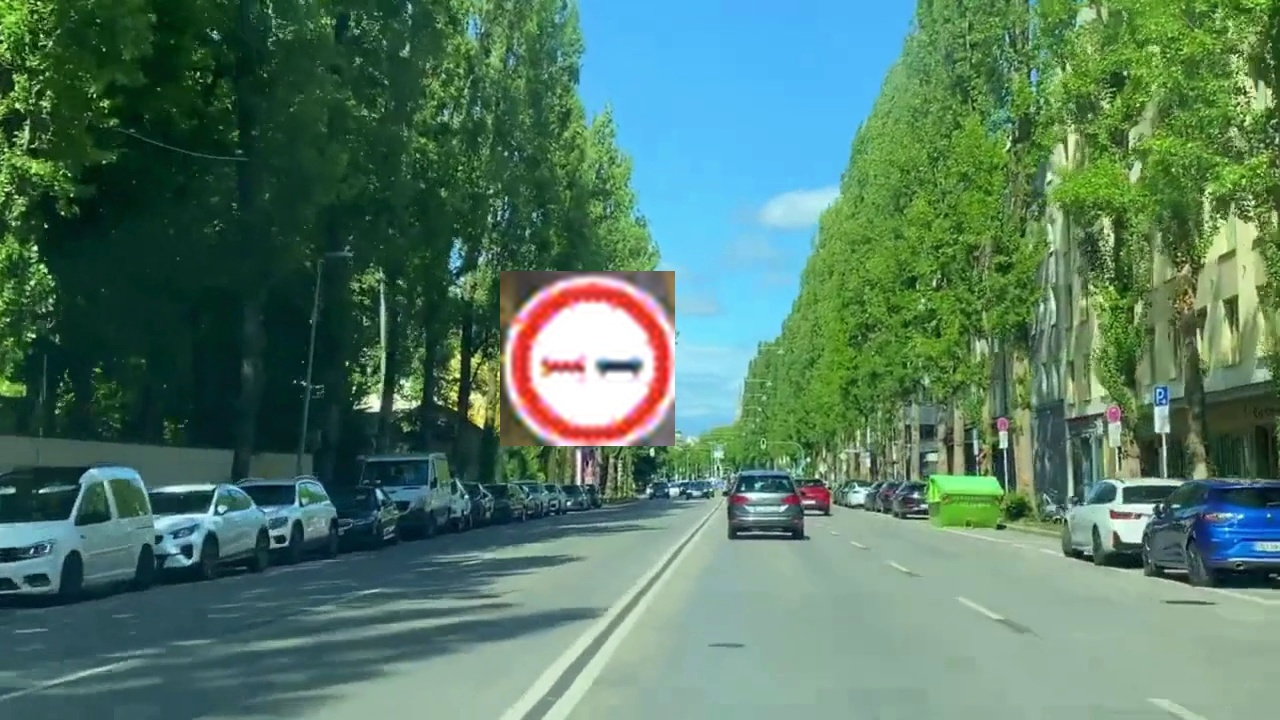No passing: (500, 271, 675, 446)
